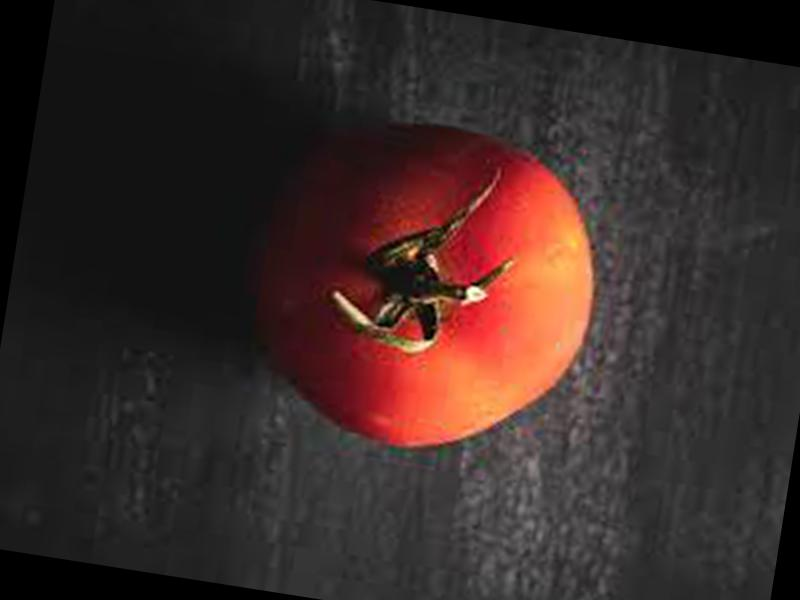Tomato: (236, 105, 616, 472)
